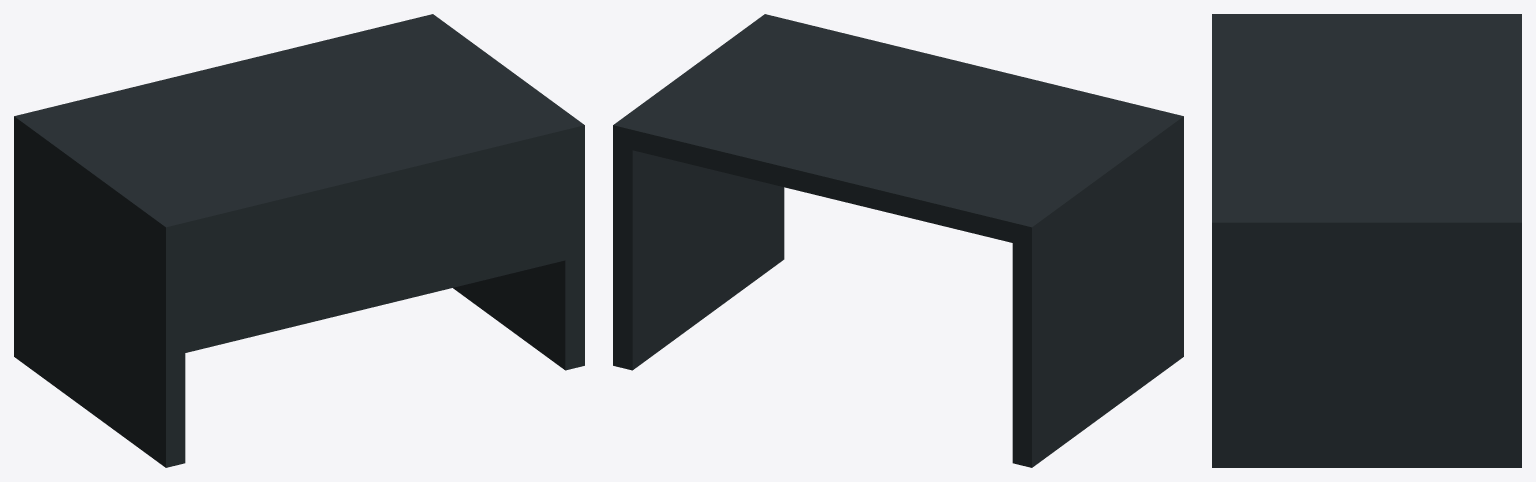
Rendered from table5.fbx.
3 renders of one model, left to right at view 1: azimuth 30°, elevation 25°; view 2: azimuth 150°, elevation 25°; view 3: azimuth 270°, elevation 25°, orthographic. The views are drawn at different scales.
Visible parts, largest first — view 1: Cube; view 2: Cube; view 3: Cube.
Part boxes in pixels (x1,y1,x2,y2): Cube: [14, 14, 584, 467]; Cube: [613, 14, 1183, 467]; Cube: [1212, 14, 1521, 467].
Size of the model in its own units: 430 by 236 by 270.
